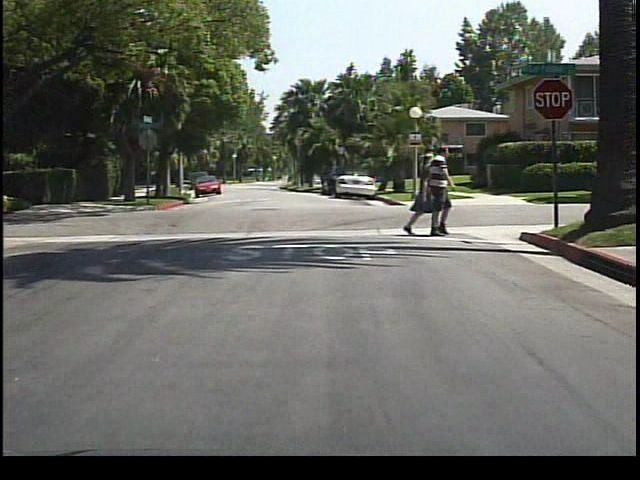person: (429, 145, 462, 239), (406, 151, 436, 240)
